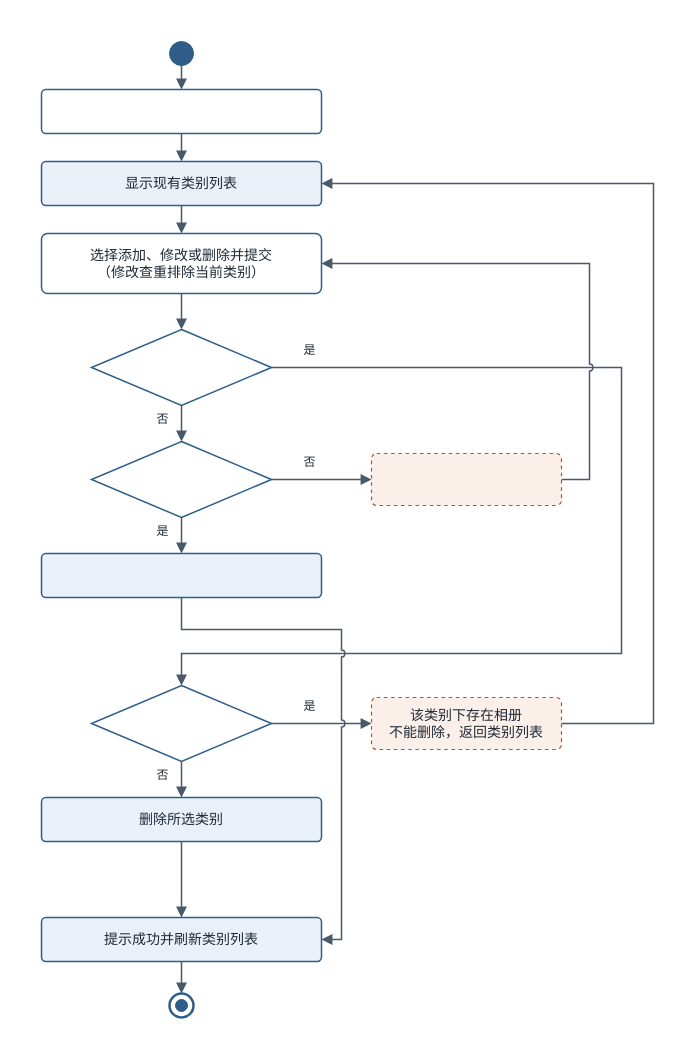
Some shapes in this 694 by 1058 pixel diagram are drawn without their labels. Here are the shapes that lost their labels. From the top down, the centre of each, then its label:
At [181,111]: "进入后台“相册类别管理”页面".
At [181,367]: "删除操作？".
At [181,479]: "名称非空 且不重名？".
At [466,479]: "提示名称为空或重名".
At [181,575]: "保存新增或修改后的类别".
At [181,723]: "类别下存在相册？".
